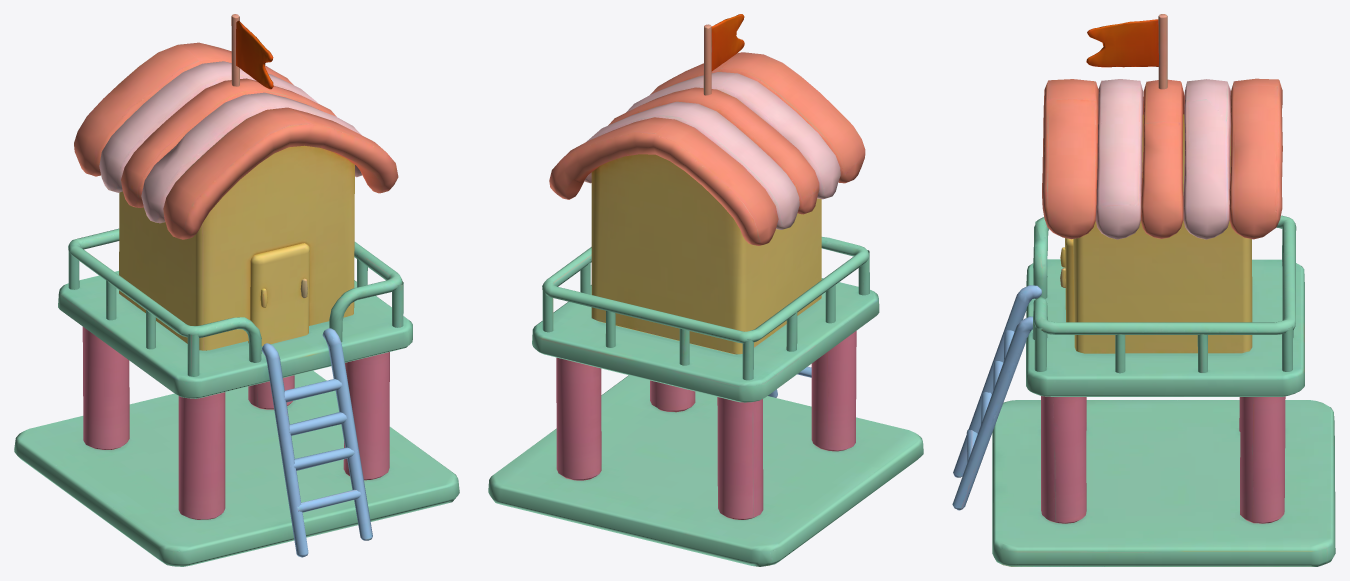
Rendered from lifeguard.glb.
3 views of the same model, side by side, from view 1: azimuth 30°, elevation 25°; view 2: azimuth 150°, elevation 25°; view 3: azimuth 270°, elevation 25° (orthographic). The views are drawn at different scales.
Visible parts, largest first — view 1: geometry_0; view 2: geometry_0; view 3: geometry_0.
Part boxes in pixels (left/top/right/bottom): geometry_0: left=14, top=14, right=459, bottom=566; geometry_0: left=488, top=14, right=923, bottom=566; geometry_0: left=952, top=14, right=1335, bottom=566.
Bounding box in the file's own units: 0.675 × 1 × 0.7265.
1 material, 1 textured.
